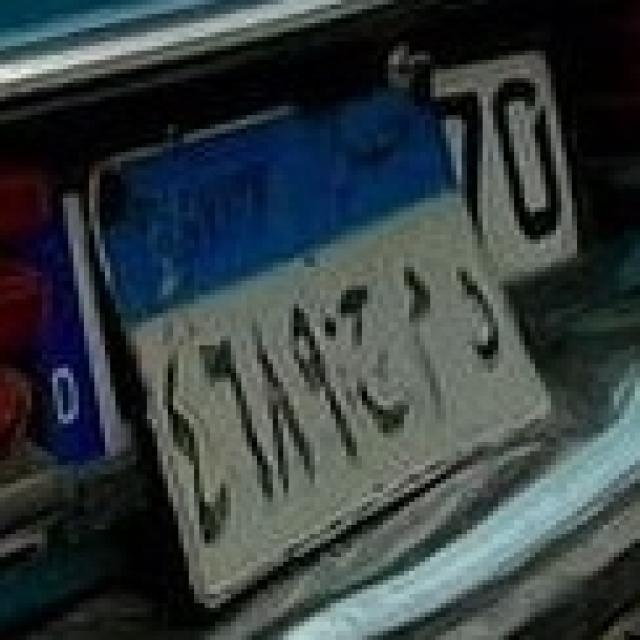4: (164, 335, 228, 553)
6: (201, 328, 272, 524)
8: (255, 316, 318, 512)
9: (291, 291, 360, 487)
Meem: (402, 256, 455, 432)
daal: (449, 248, 509, 378)
geem: (338, 274, 424, 456)
